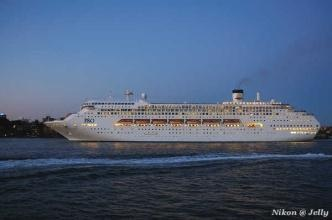youlun: (41, 79, 322, 145)
